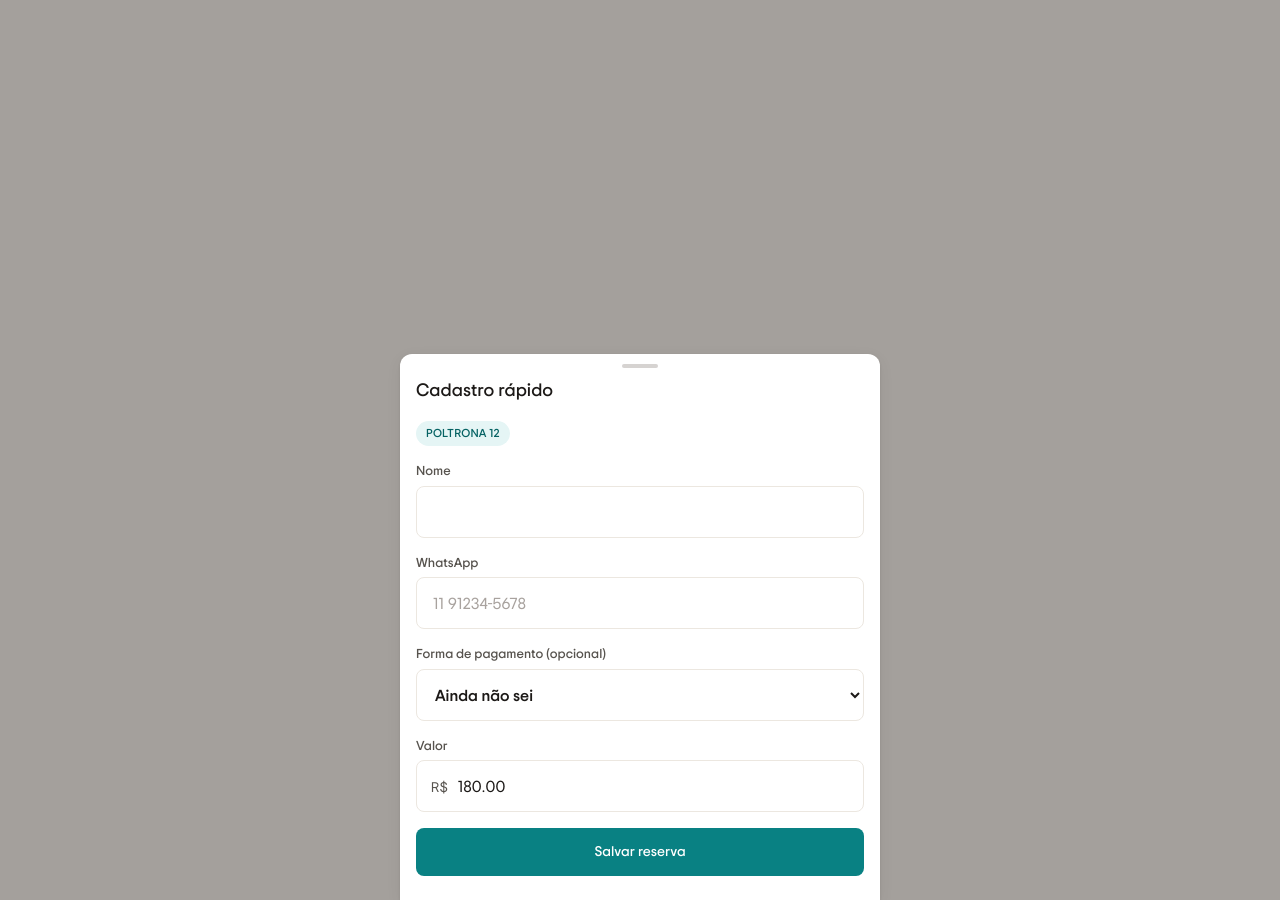
it: CadastroRapidoSheet › valida nome e whatsapp antes de enviar
Click the button "Salvar reserva" at (640, 852), box left=416, top=828, right=864, bottom=876
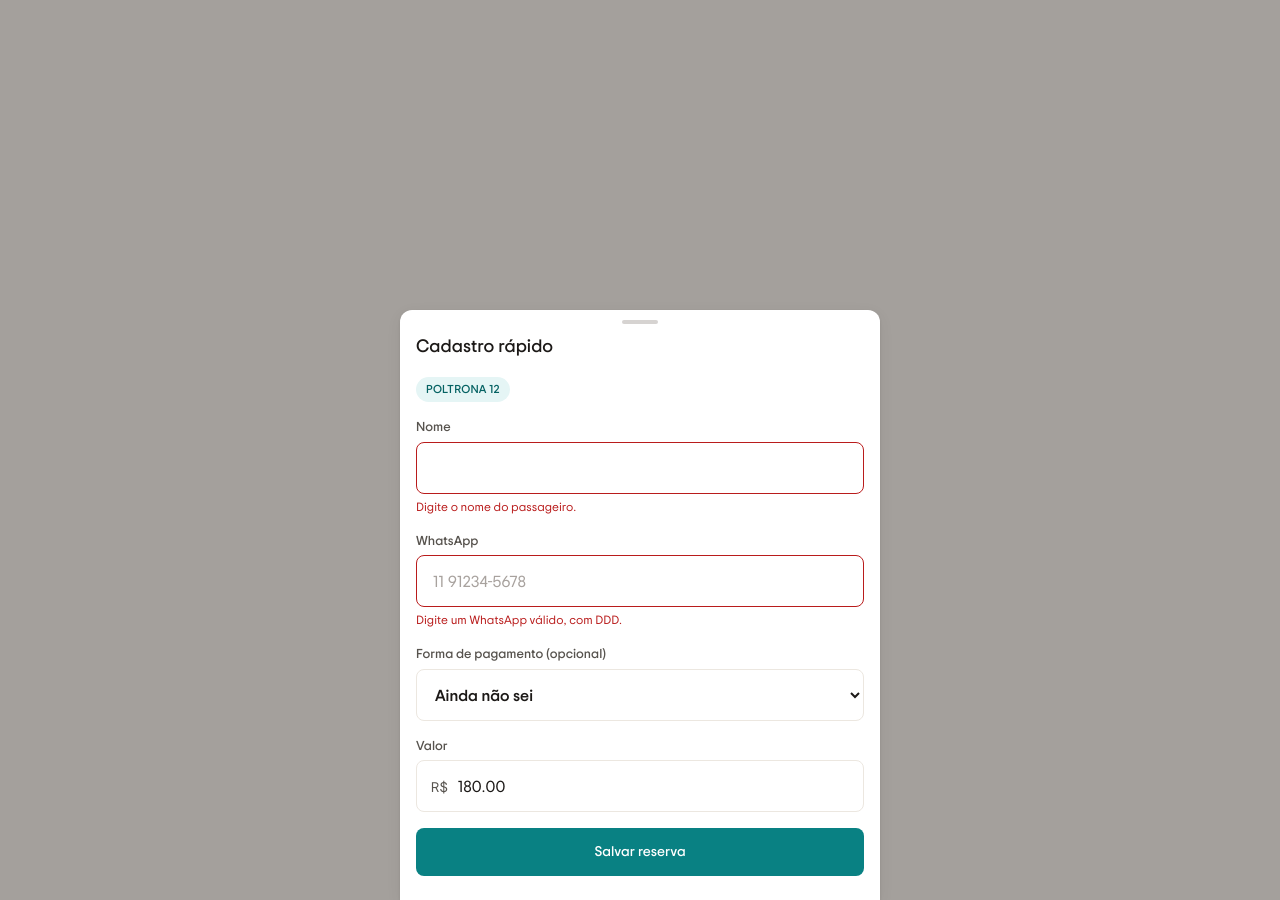
Result: the text "Digite o nome do passageiro." is shown at left=416, top=498, right=576, bottom=514
Result: the text "Digite um WhatsApp válido, com DDD." is shown at left=416, top=611, right=622, bottom=628
